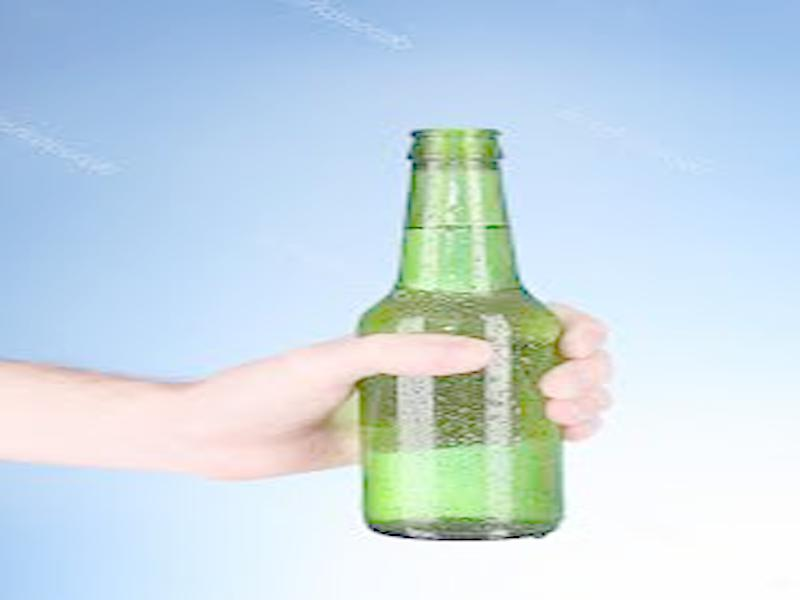Beer: (362, 127, 559, 541)
